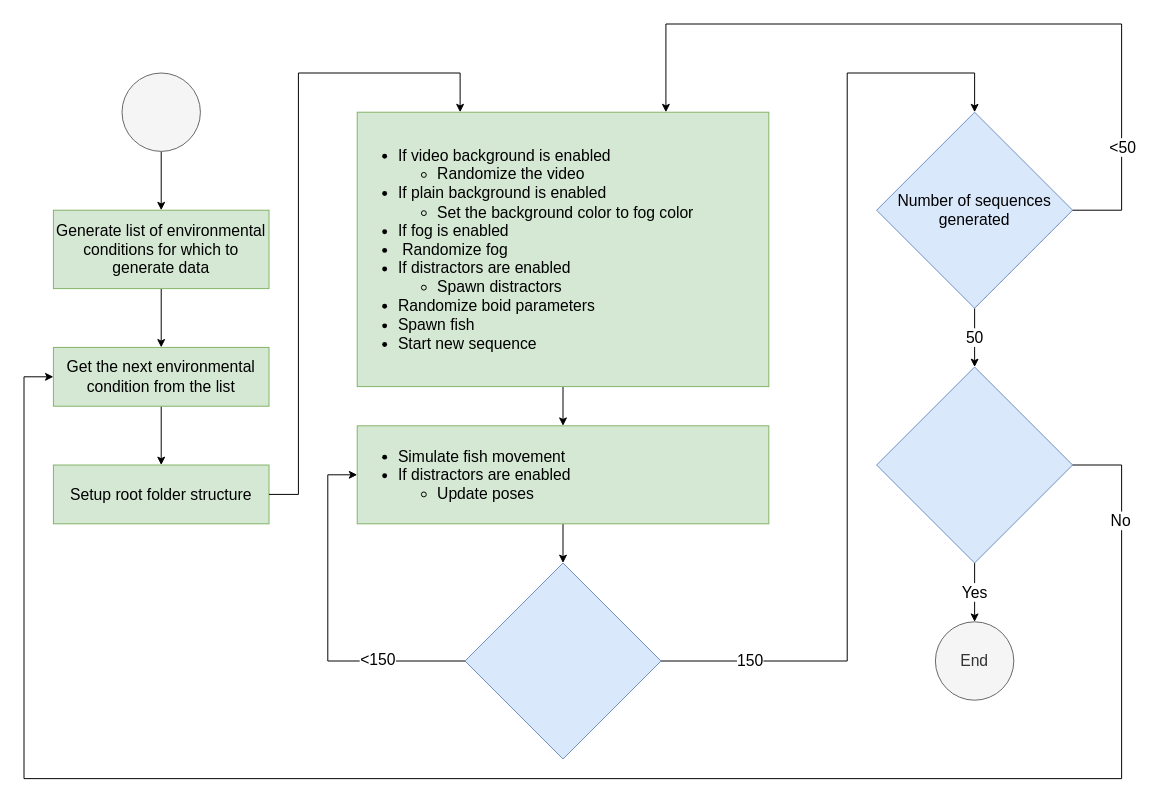
The diagram is 1152 pixels wide and 804 high, and some of its shapes have lost their labels. The shapes that lost their labels are listed below. From the top down, each one's box as (x1, y1, x2, y2) in pixels, then its label:
(121, 72, 200, 151): Start
(876, 366, 1073, 563): Was data for all environmental conditions generated?
(464, 562, 661, 759): Number of images in the current sequence
